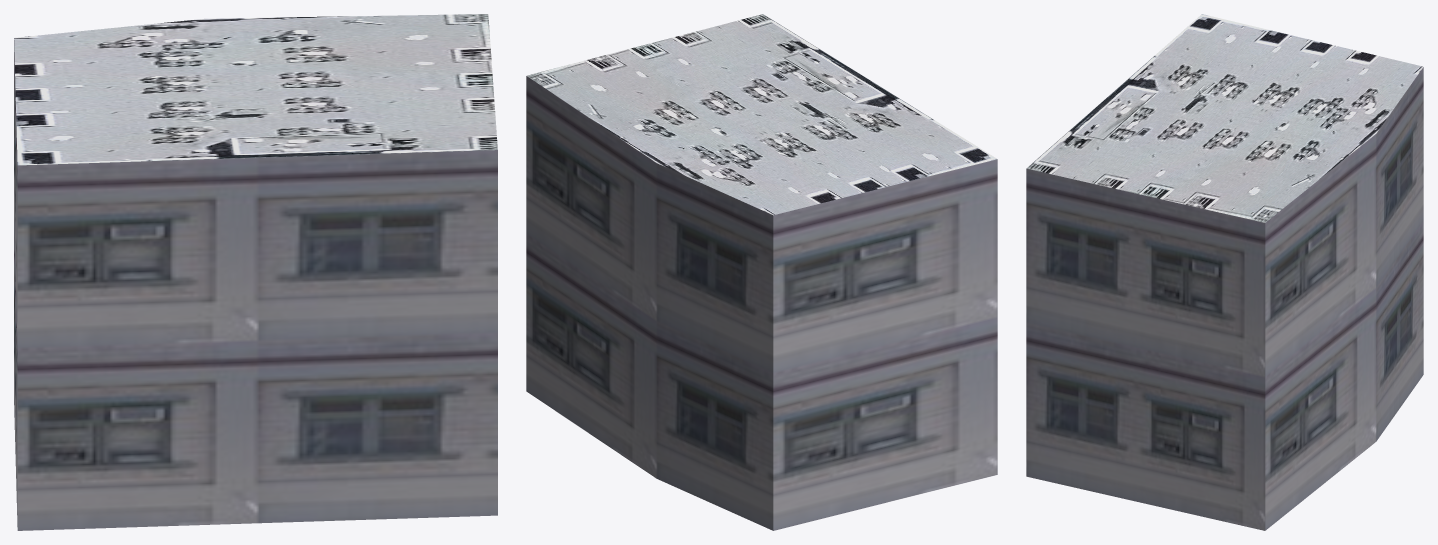
File: ResTex__4579.fbx
3 views of the same model, side by side, from view 1: azimuth 30°, elevation 25°; view 2: azimuth 150°, elevation 25°; view 3: azimuth 270°, elevation 25° (orthographic). The views are drawn at different scales.
Visible parts, largest first — view 1: CityEngineMaterial_1_m, CityEngineMaterial_4_m; view 2: CityEngineMaterial_1_m, CityEngineMaterial_4_m; view 3: CityEngineMaterial_1_m, CityEngineMaterial_4_m.
Boxes of the visible parts, left/top/right/bottom form: CityEngineMaterial_1_m: left=14, top=40, right=497, bottom=530; CityEngineMaterial_4_m: left=14, top=14, right=497, bottom=165; CityEngineMaterial_1_m: left=526, top=76, right=997, bottom=530; CityEngineMaterial_4_m: left=526, top=14, right=997, bottom=215; CityEngineMaterial_1_m: left=1026, top=67, right=1423, bottom=530; CityEngineMaterial_4_m: left=1026, top=14, right=1423, bottom=222.
Bounding box in the file's own units: 8.73 × 6 × 7.02.
Materials: 2 (2 with a texture image).
